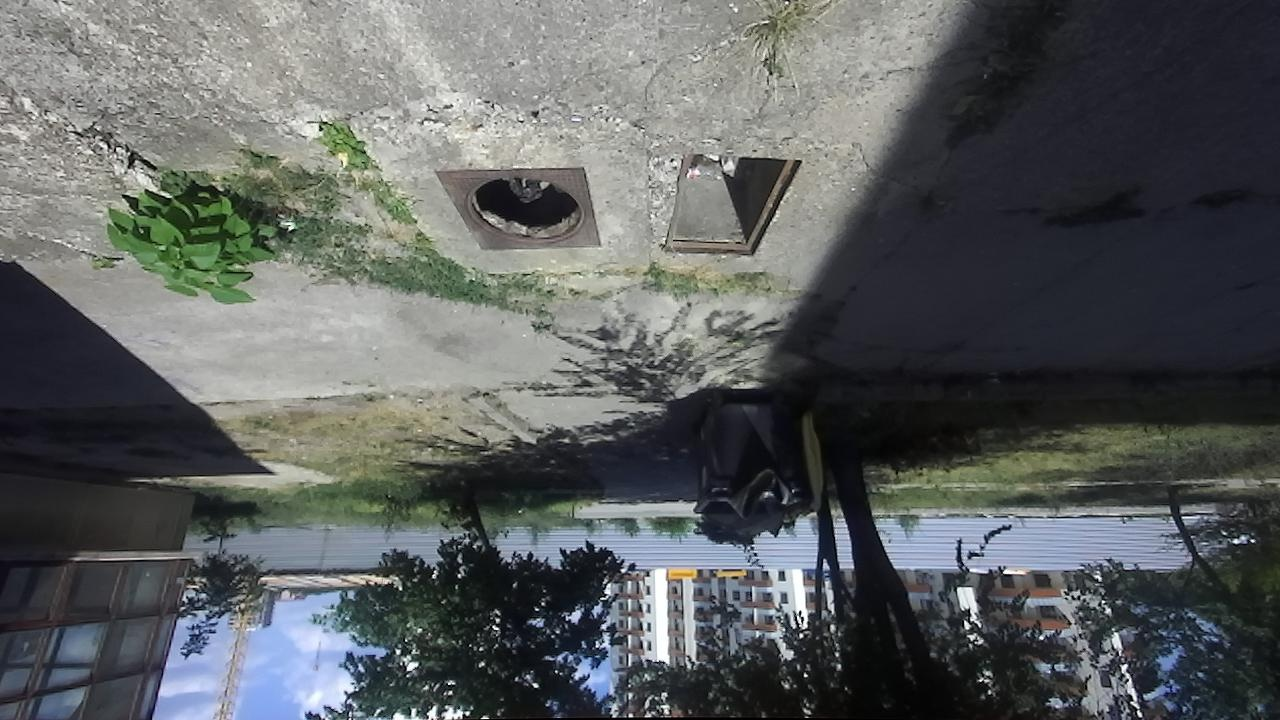drain: (660, 146, 802, 259), (458, 173, 588, 248)
